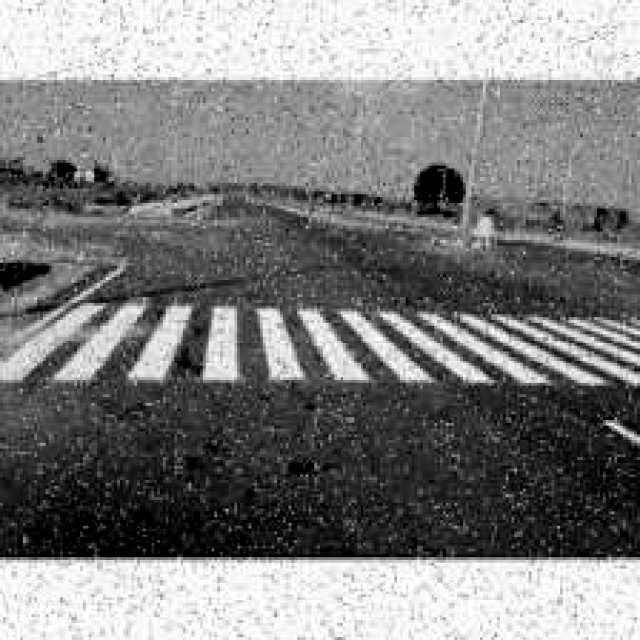crosswalk: (0, 297, 627, 397)
